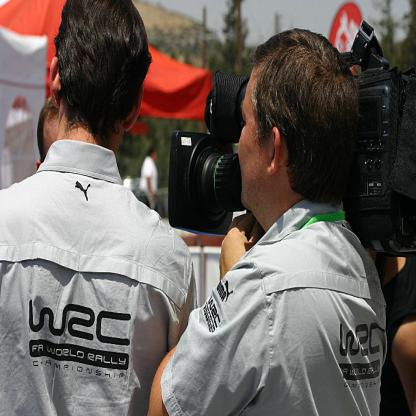Camera: (169, 22, 416, 261)
